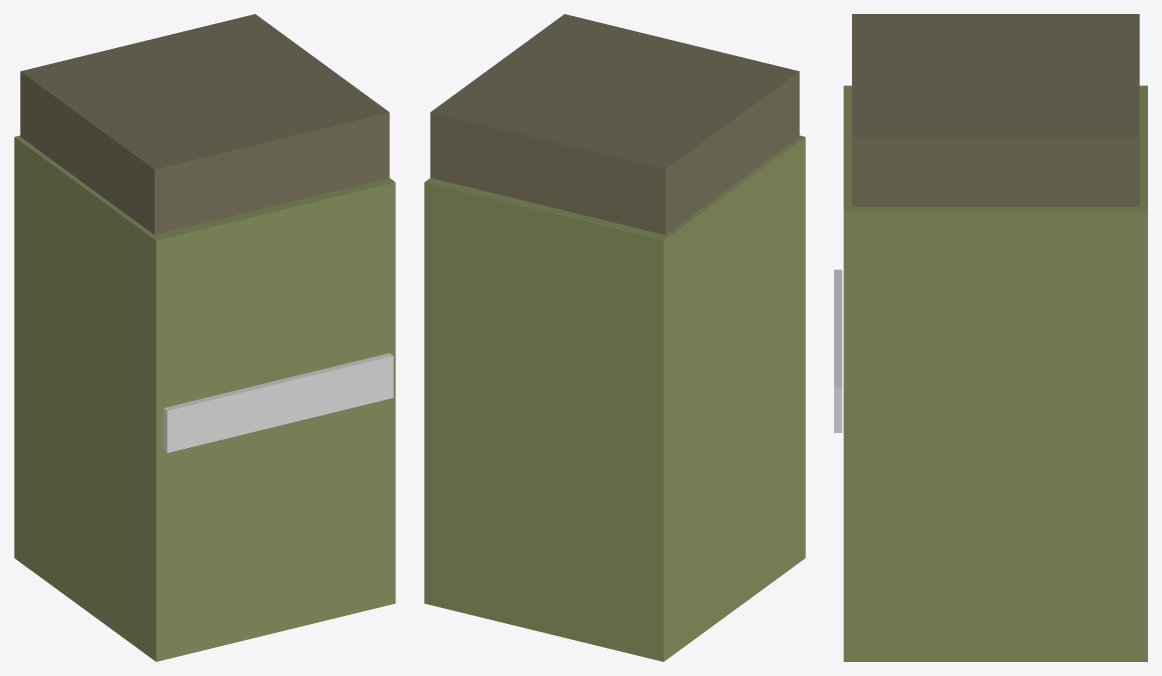
The model's file is SM_HescoCorto1_v3_RemateSacos_e0_Sano_LOD1.fbx.
3 views of the same model, side by side, from view 1: azimuth 30°, elevation 25°; view 2: azimuth 150°, elevation 25°; view 3: azimuth 270°, elevation 25° (orthographic). The views are drawn at different scales.
Visible parts, largest first — view 1: SM_hesco_piezas_v52_LOD1; view 2: SM_hesco_piezas_v52_LOD1; view 3: SM_hesco_piezas_v52_LOD1.
Boxes of the visible parts, x1=… form: SM_hesco_piezas_v52_LOD1: x1=14, y1=14, x2=395, y2=661; SM_hesco_piezas_v52_LOD1: x1=424, y1=14, x2=805, y2=661; SM_hesco_piezas_v52_LOD1: x1=834, y1=14, x2=1147, y2=661.
Size of the model in its own units: 1.07 by 2.09 by 1.13.
